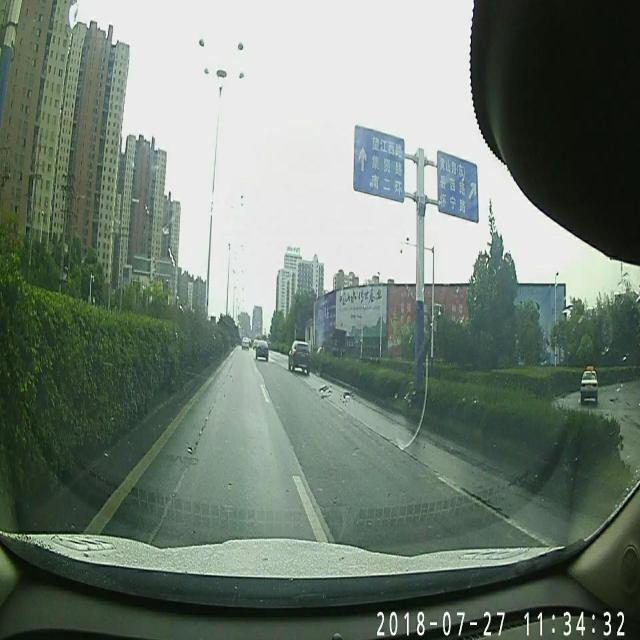car: (288, 342, 308, 373), (256, 338, 270, 361), (241, 336, 249, 346)
